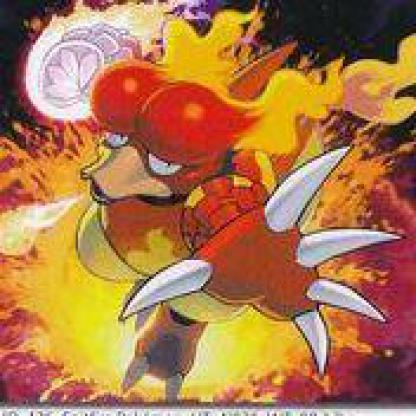Magmar: (1, 1, 365, 398)
